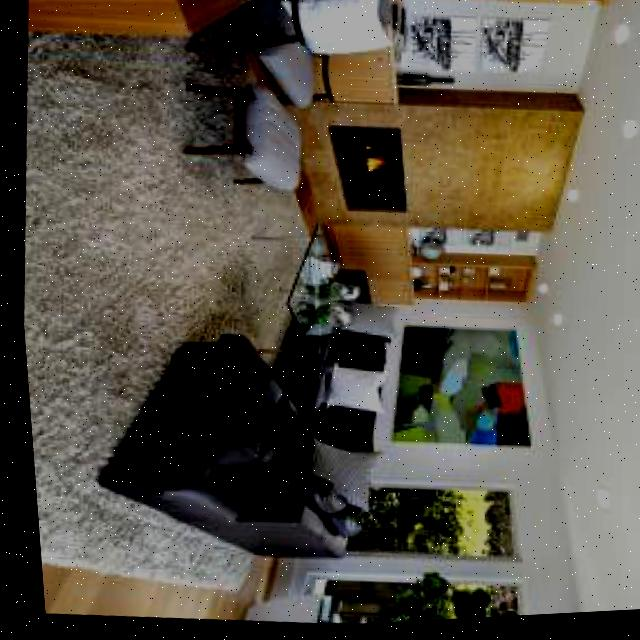Fire: (348, 148, 393, 187)
